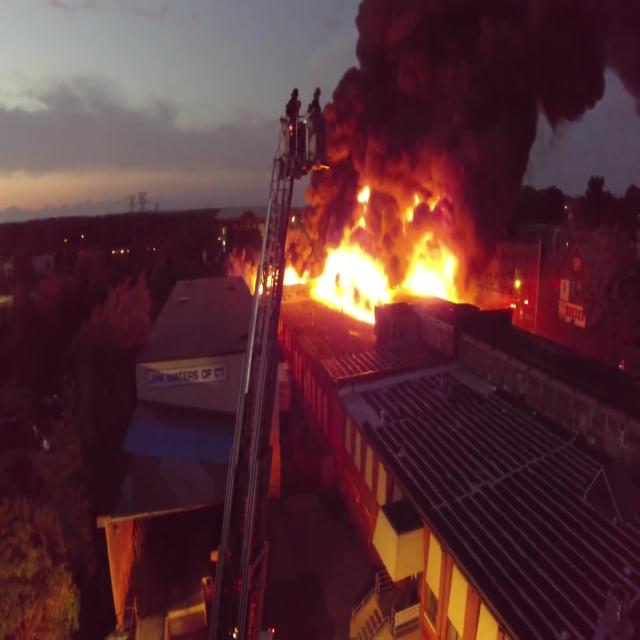Fire: (252, 182, 480, 306)
Smoke: (276, 0, 640, 274)
